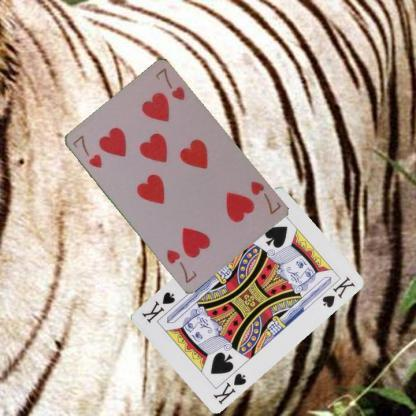7h: (247, 178, 282, 216), (69, 132, 103, 170)
Ks: (210, 370, 248, 405)
